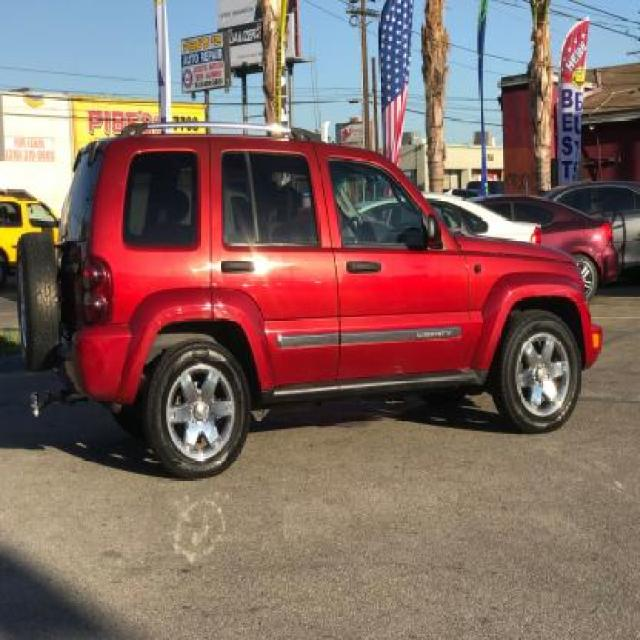Jeep: (18, 119, 600, 473)
